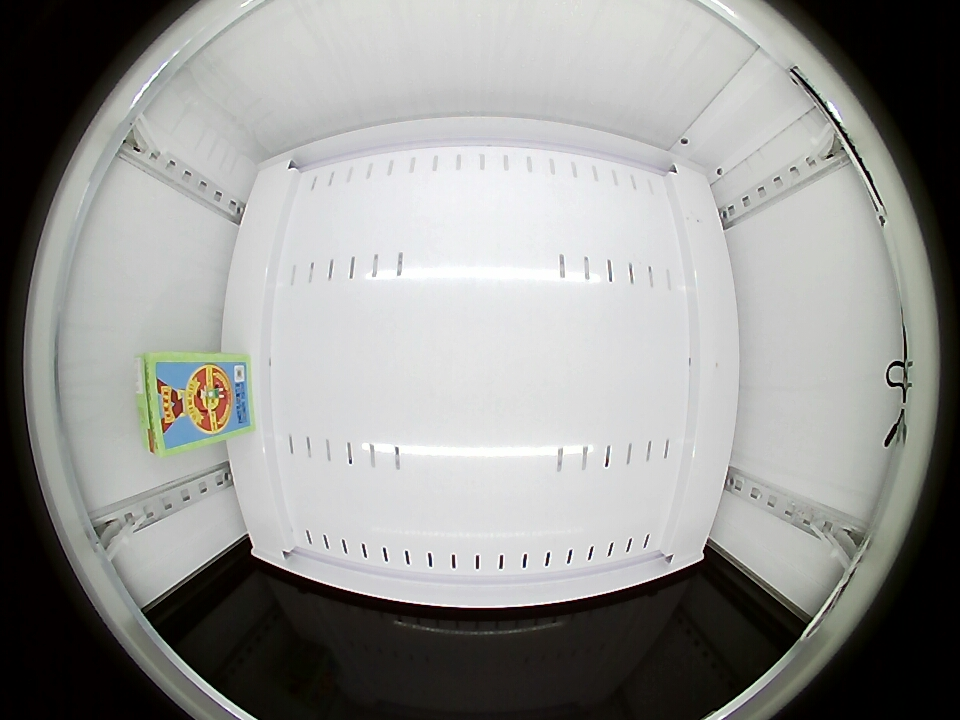wanglaoji: (137, 354, 201, 458)
